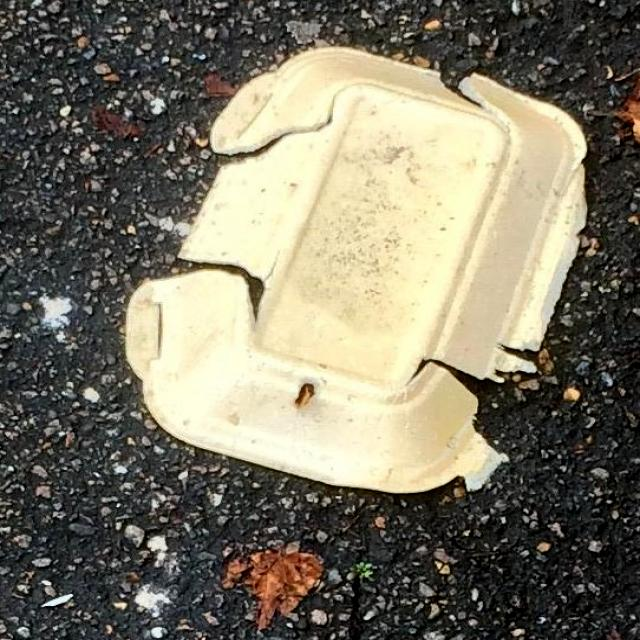Trash: (79, 20, 619, 521)
